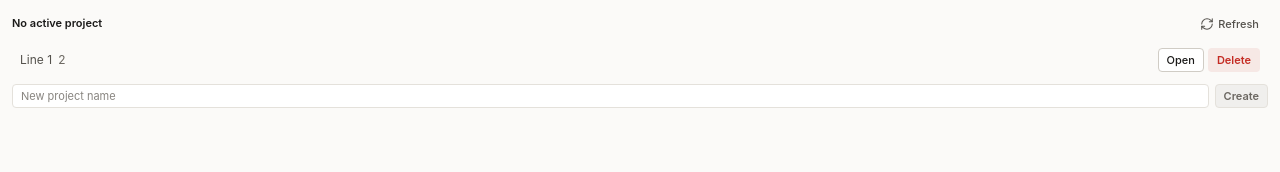
CloudProjectPanel › delete removes the project row
What coordinates should you click on to do the following:
click the button "Delete"
I would click on:
 (1234, 60)
Its box is [1208,48,1260,72].
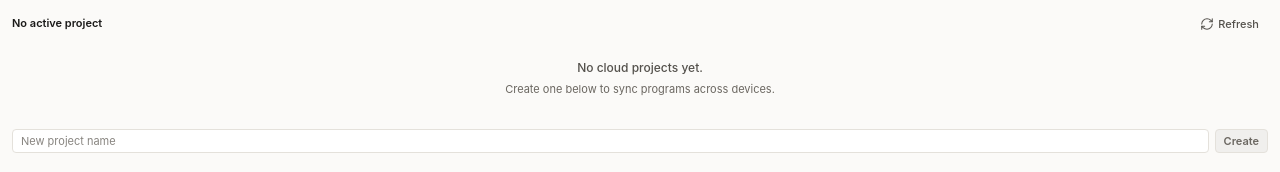
Expected: the text "No cloud projects yet." is shown, [577,60,703,77]
